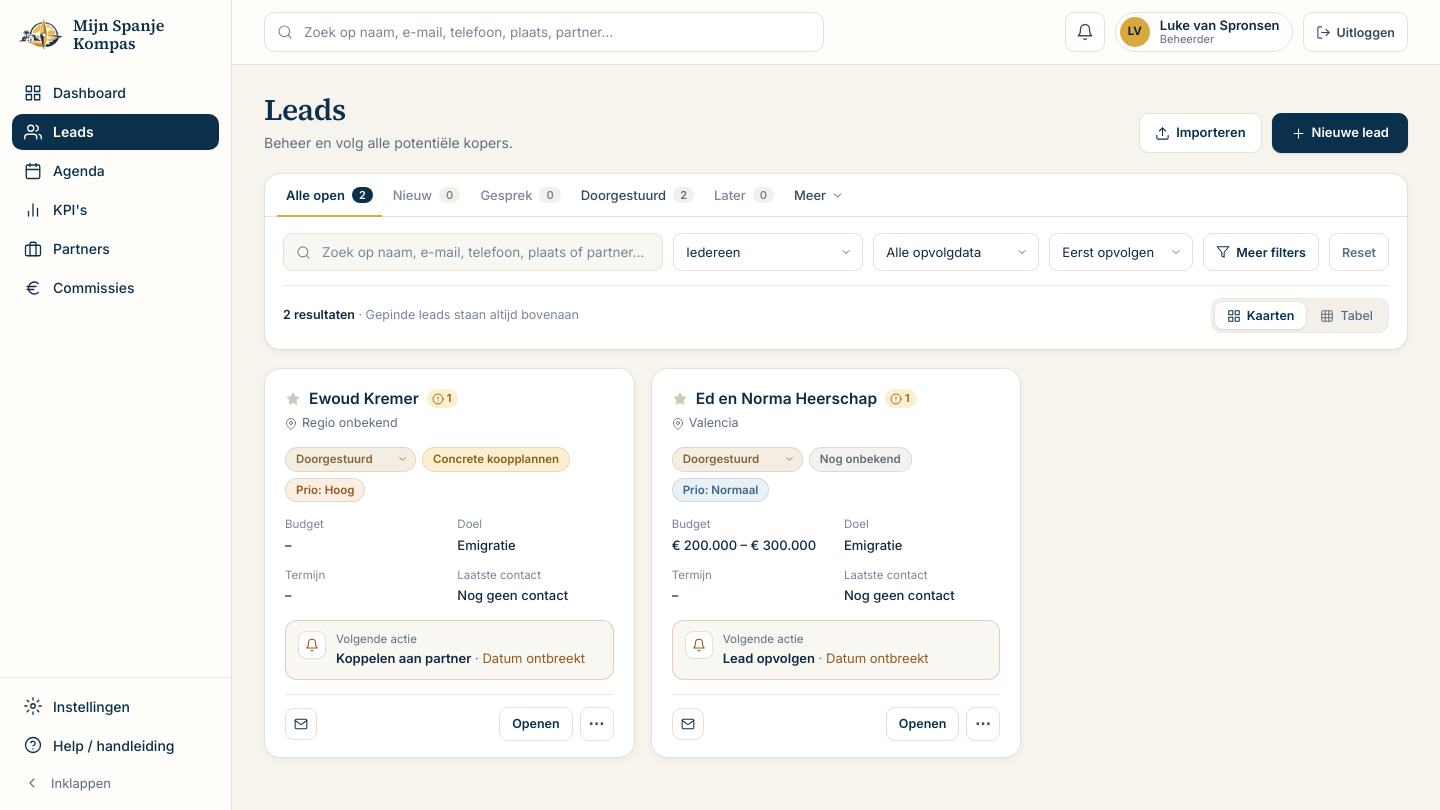
Test: nieuwe lead met duplicaatwaarschuwing
Click the button "Nieuwe lead" at (1340, 133), box [1272, 113, 1408, 153]
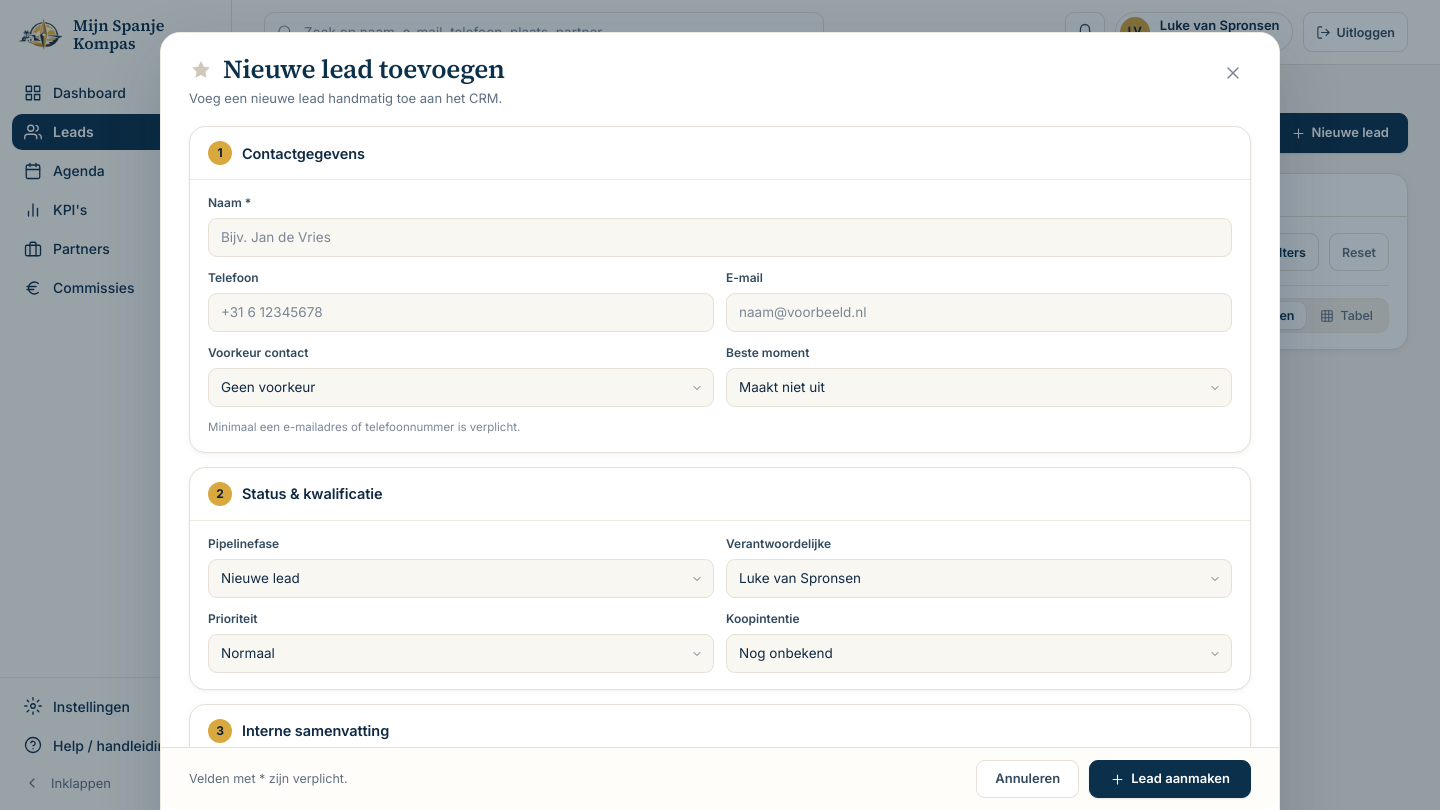
Type "E. Kremer" into the field with placeholder "Bijv. Jan de Vries" at (720, 238), box [208, 218, 1232, 257]
Type "EWOUD@example.nl" into the field with placeholder "naam@voorbeeld.nl" at (979, 313), box [726, 293, 1232, 332]
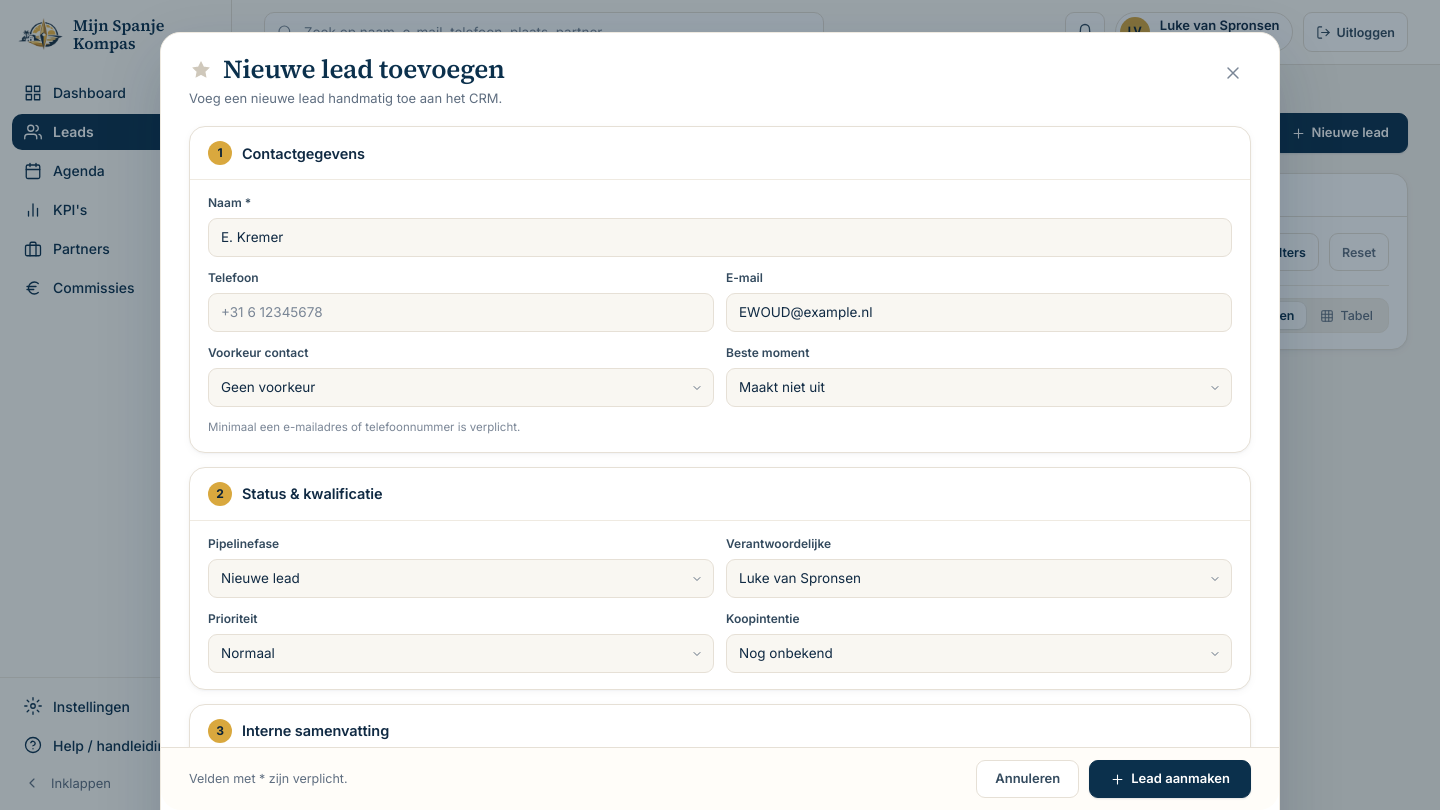
// Zonder expliciete toestemmingskeuze kan de lead niet worden aangemaakt
Click the button "Lead aanmaken" at (1170, 779), box [1089, 760, 1251, 798]
(page scrolled)
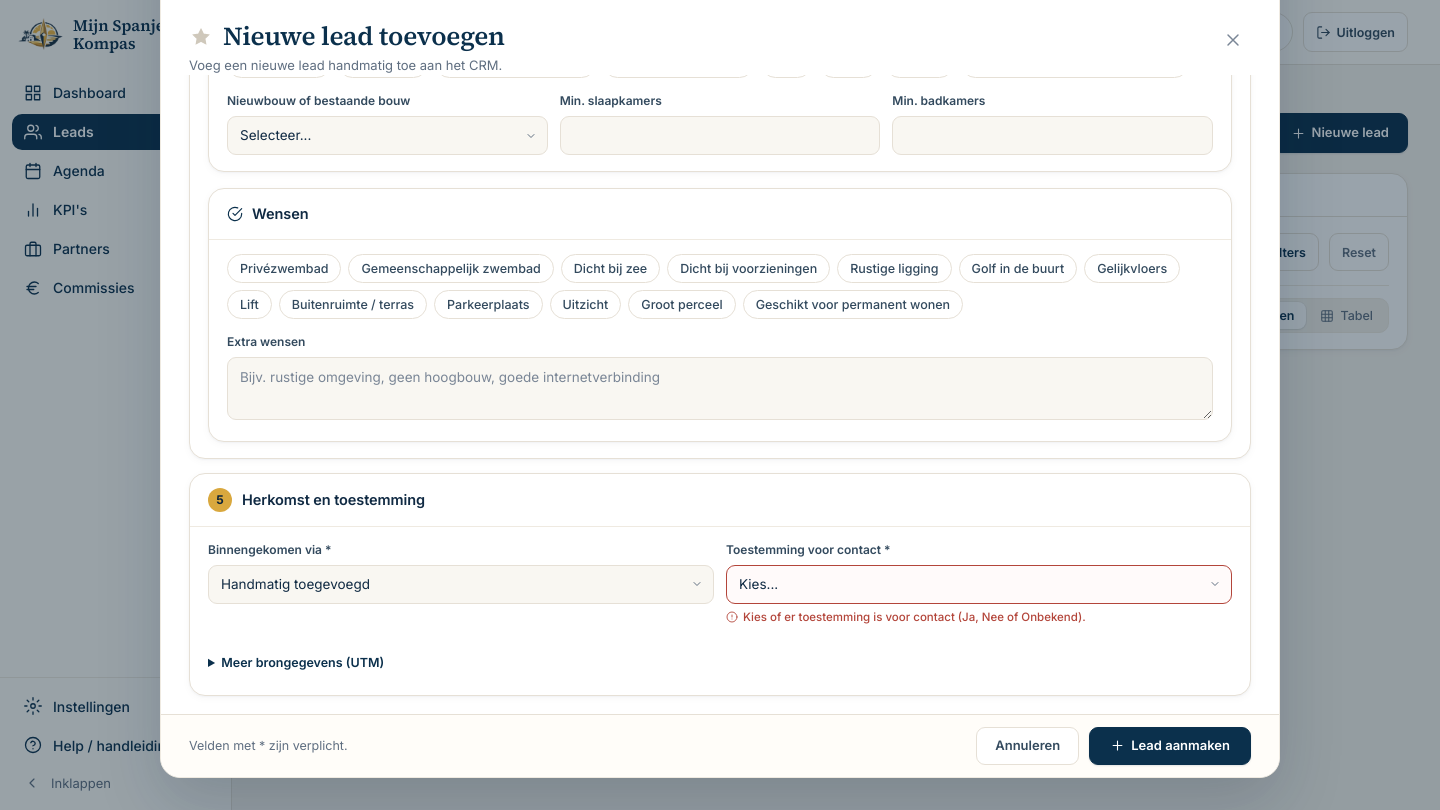
Expected: the text "Toestemming voor contact *" is shown, [726, 542, 891, 557]
Select "Onbekend" in the dropdown below "Toestemming voor contact *" at (979, 584), box [726, 565, 1232, 604]
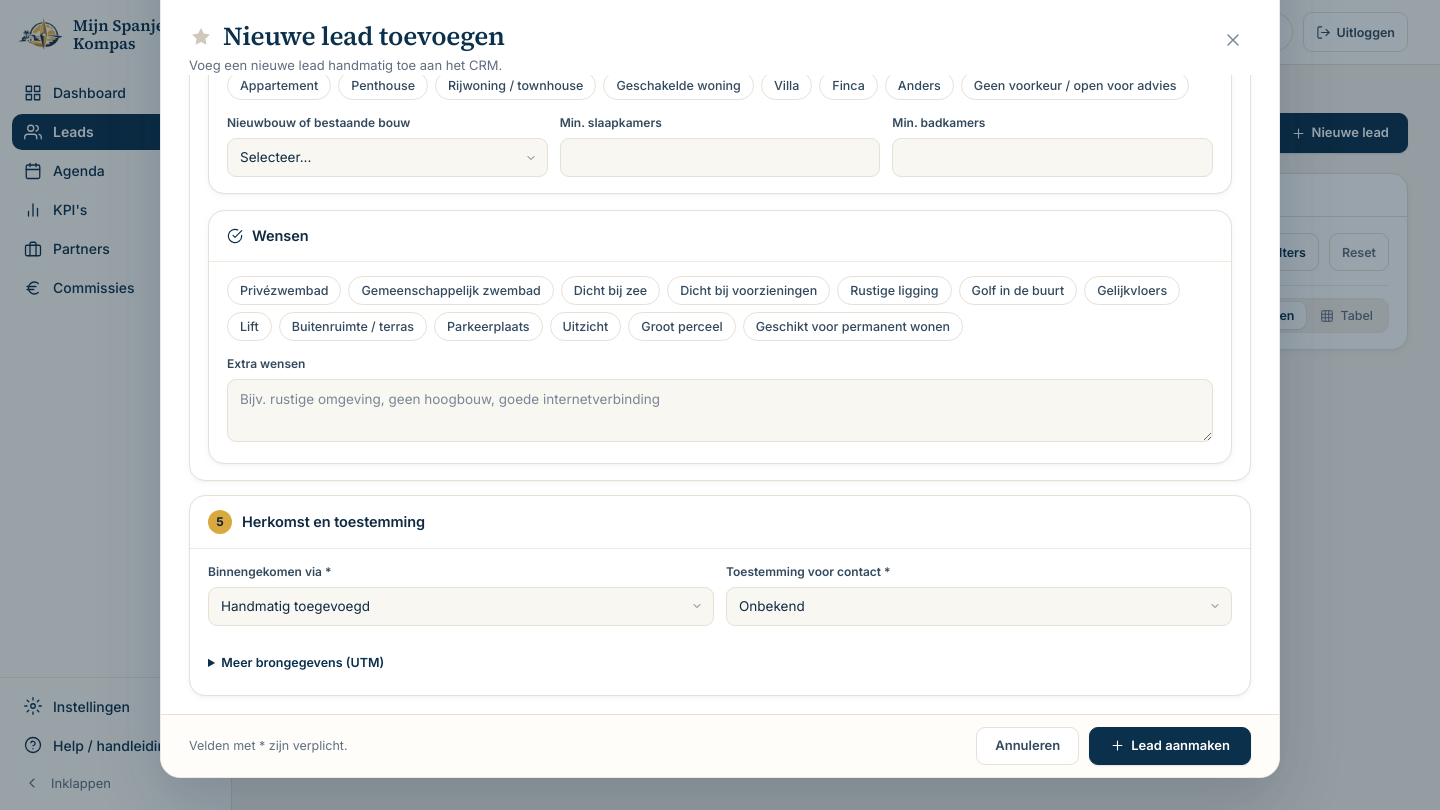
Click the button "Lead aanmaken" at (1170, 746), box [1089, 726, 1251, 764]
(page scrolled)
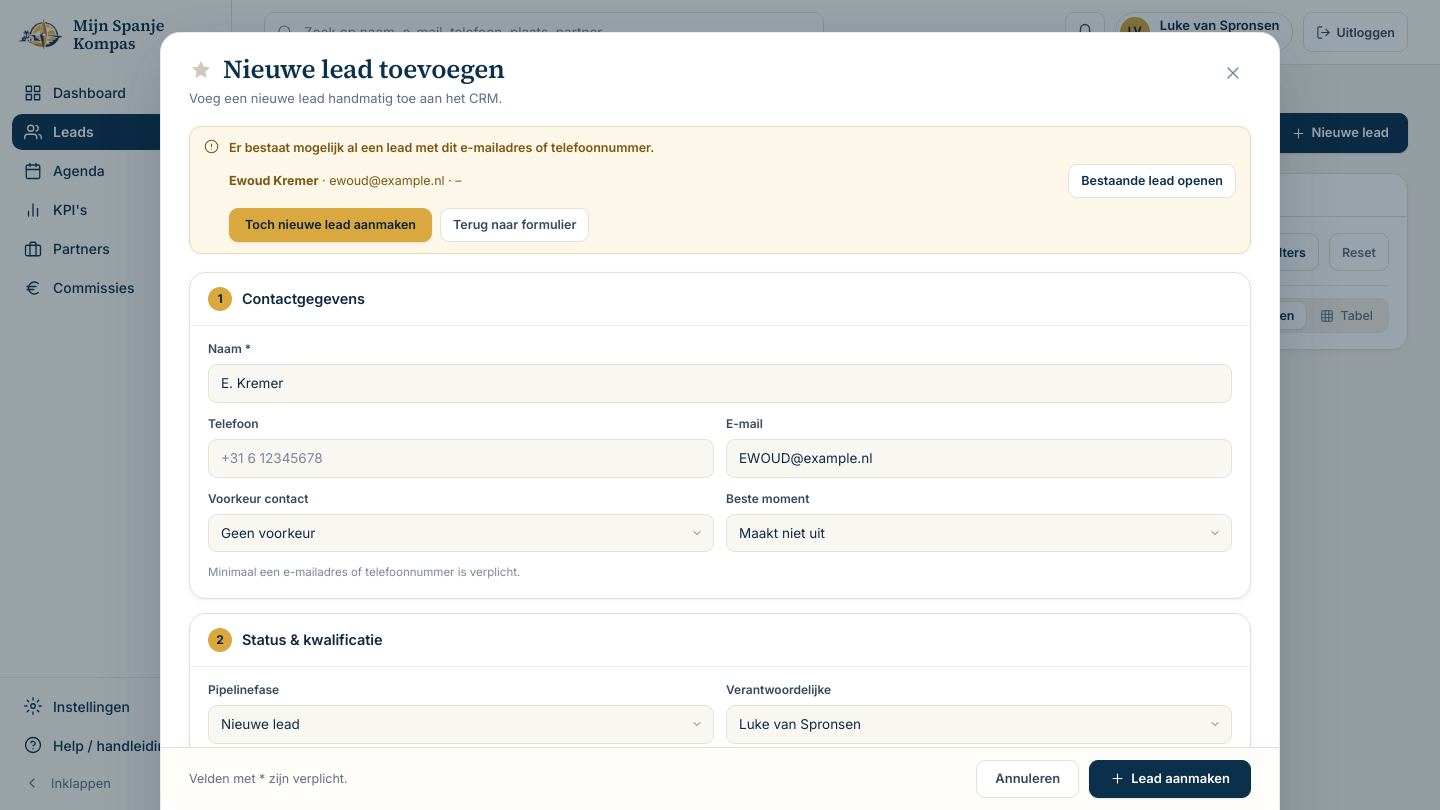
Expected: the text "Er bestaat mogelijk al een lead" is shown, [229, 140, 654, 155]
Expected: the button "Bestaande lead openen" is shown, [1068, 164, 1236, 198]
Click the button "Toch nieuwe lead aanmaken" at (330, 225), box [229, 208, 432, 242]
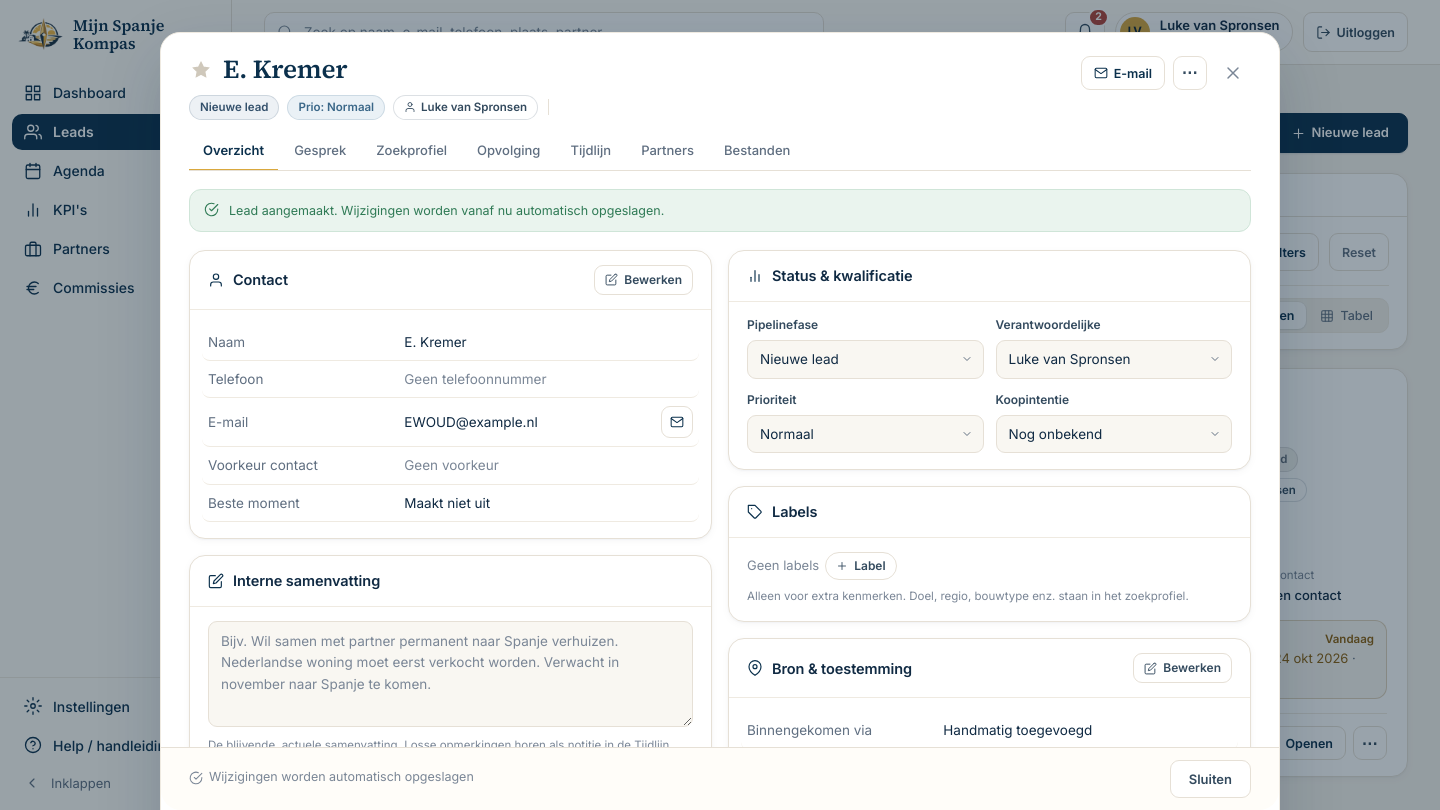
Expected: the text "Wijzigingen worden vanaf nu automatisch opgeslagen" is shown, [229, 203, 664, 218]
